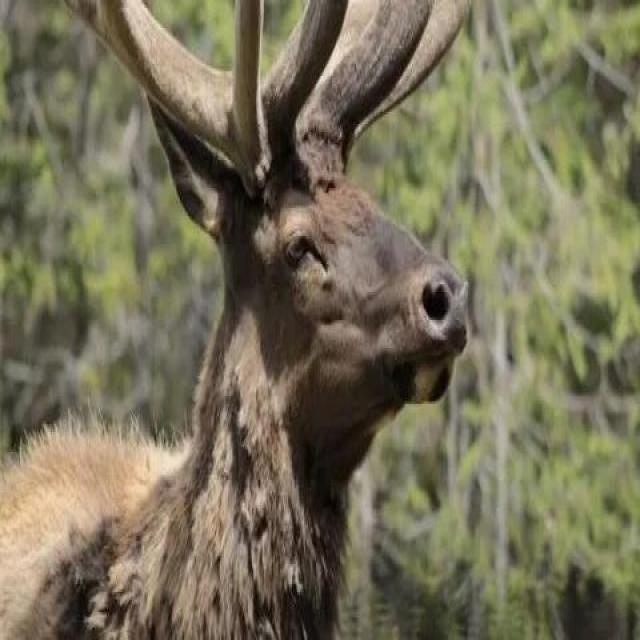deer: (53, 0, 488, 640)
